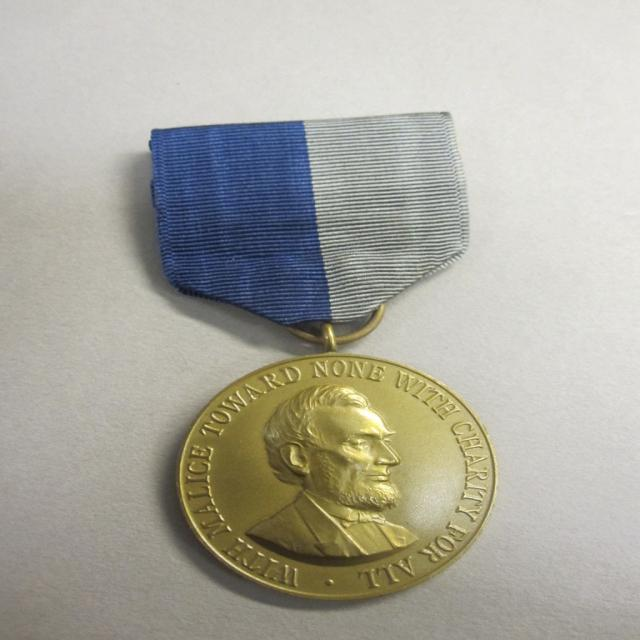Coin: (167, 350, 500, 604)
